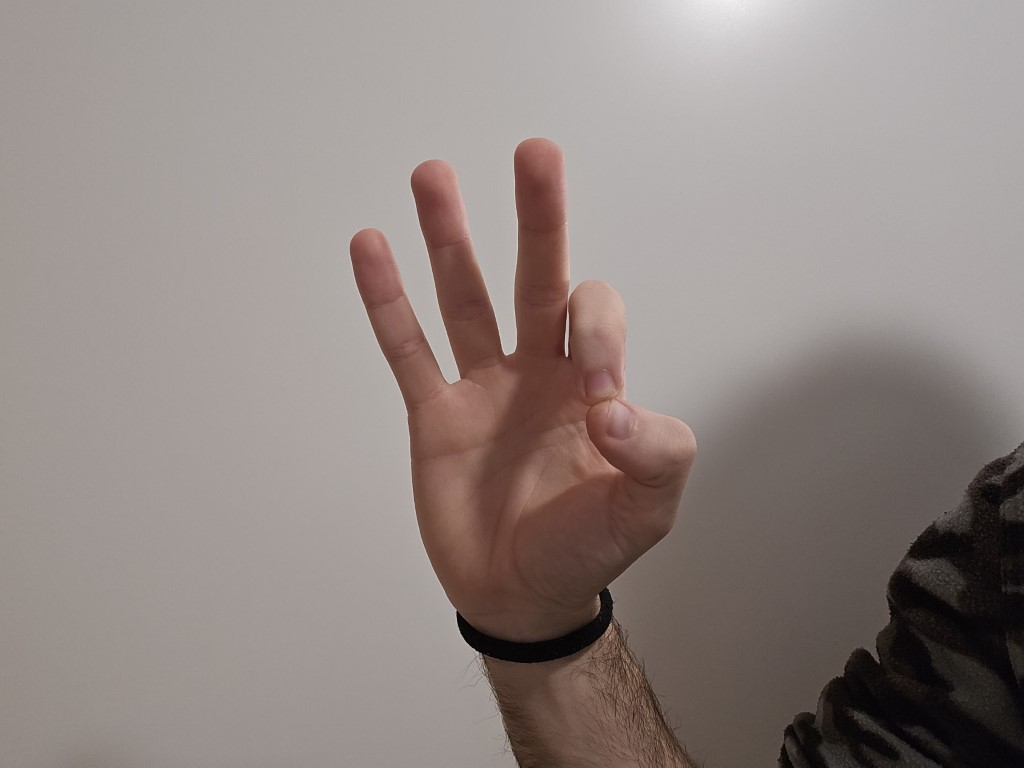f: (308, 120, 723, 624)
